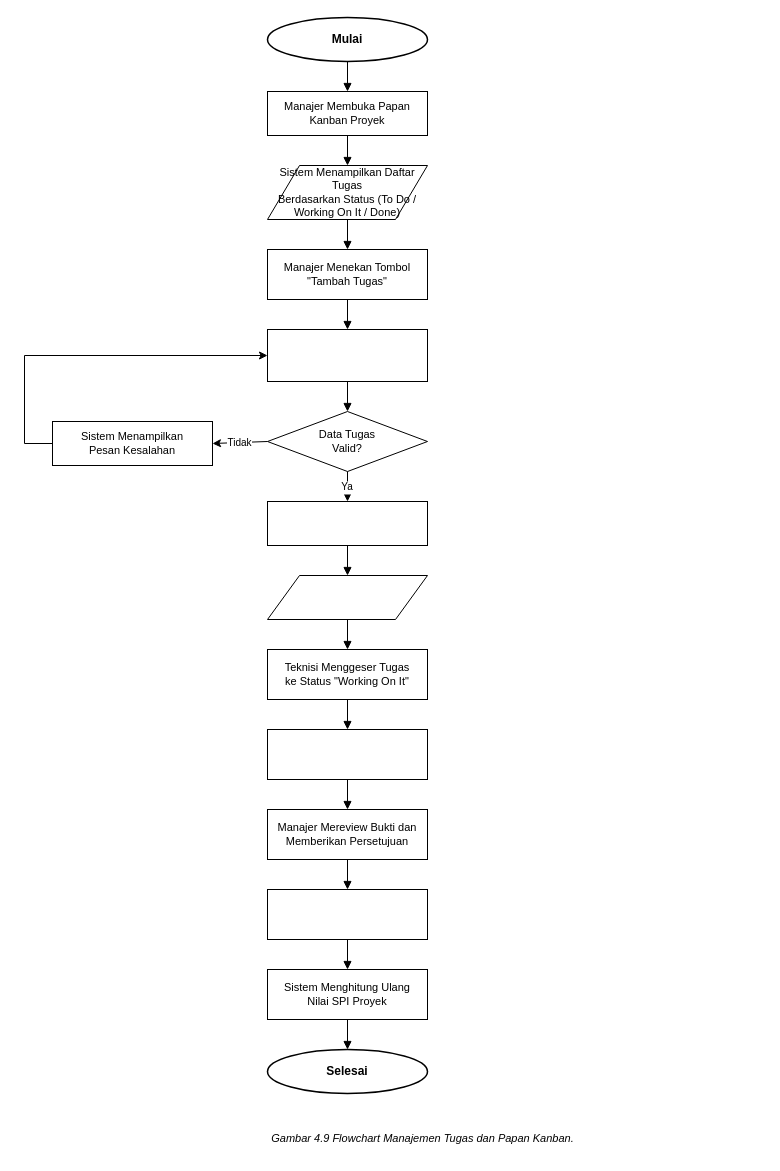
The diagram is 780 pixels wide and 1171 high, and some of its shapes have lost their labels. Each missing label, with the box of its shape:
Mengisi Detail Tugas (Judul, Deskripsi, Tenggat, Penugasan): (266, 328, 428, 382)
Sistem Menyimpan Tugas ke Database: (266, 500, 428, 546)
Status Tugas Diperbarui Menjadi "Done": (266, 888, 428, 940)
Teknisi Mengunggah Bukti Foto Pekerjaan (Evidence): (266, 728, 428, 780)
Tugas Tampil di Kolom "To Do" pada Kanban: (266, 574, 428, 620)
